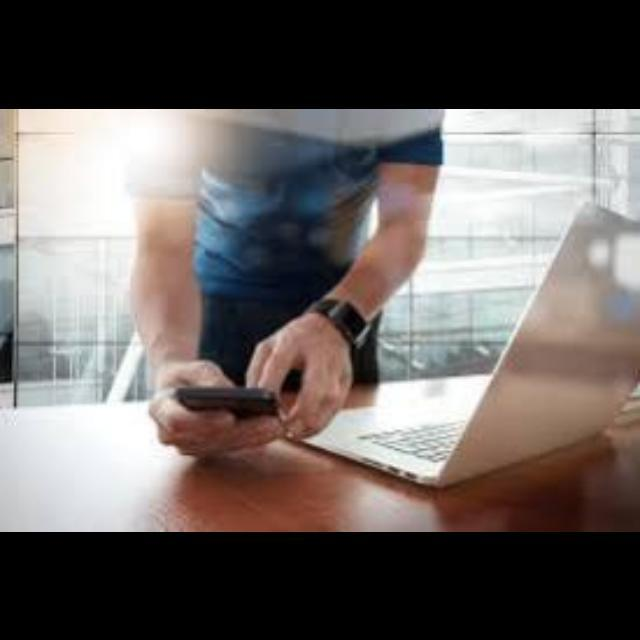Phone: (175, 386, 277, 412)
